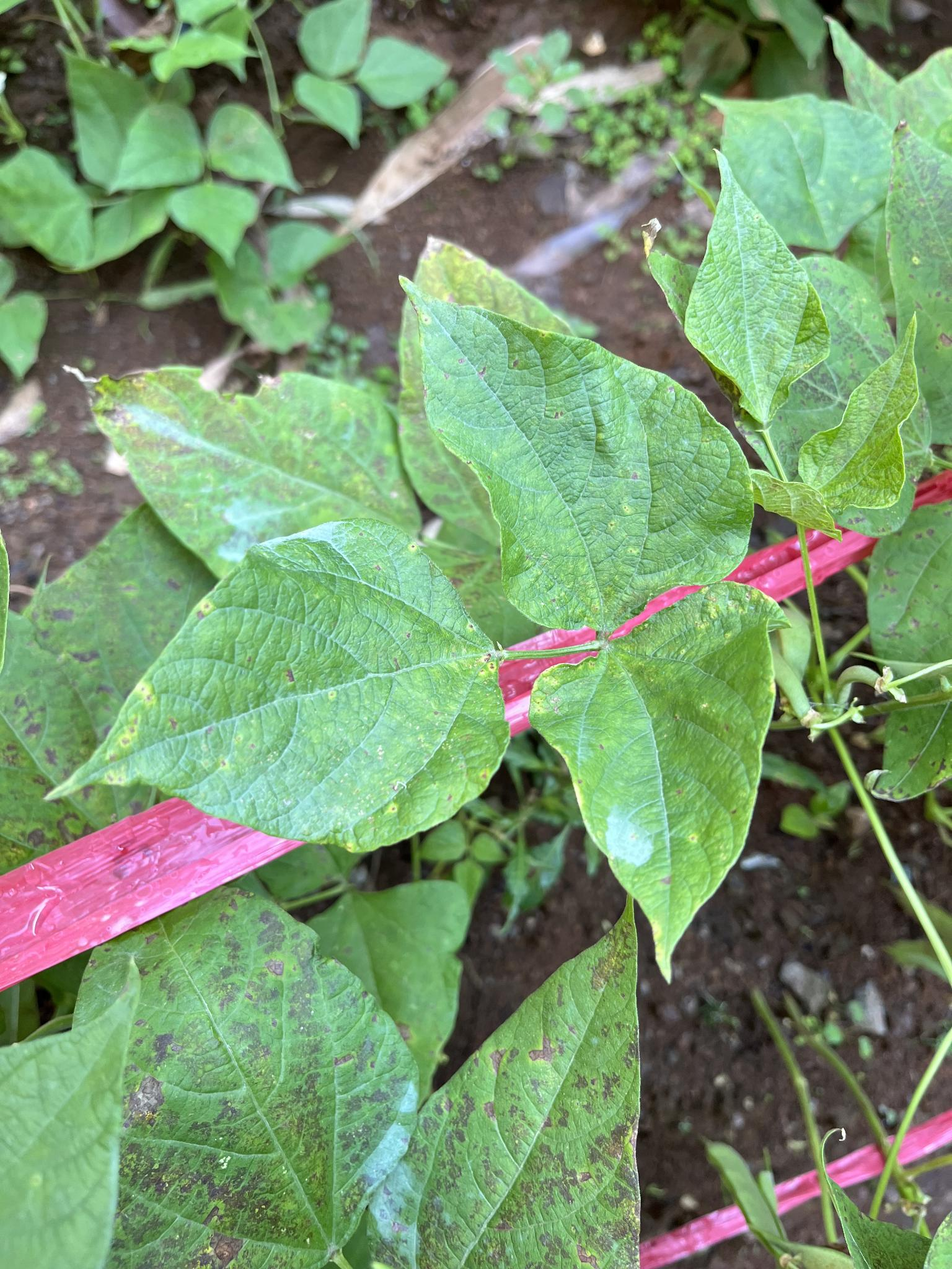embun tepung: (358, 1076, 410, 1269), (591, 797, 658, 867)
